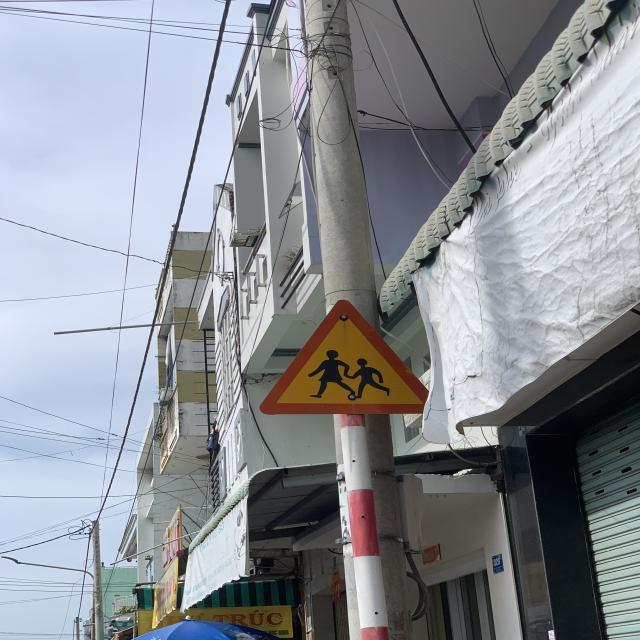Vong_Xuyen: (258, 301, 438, 414)
